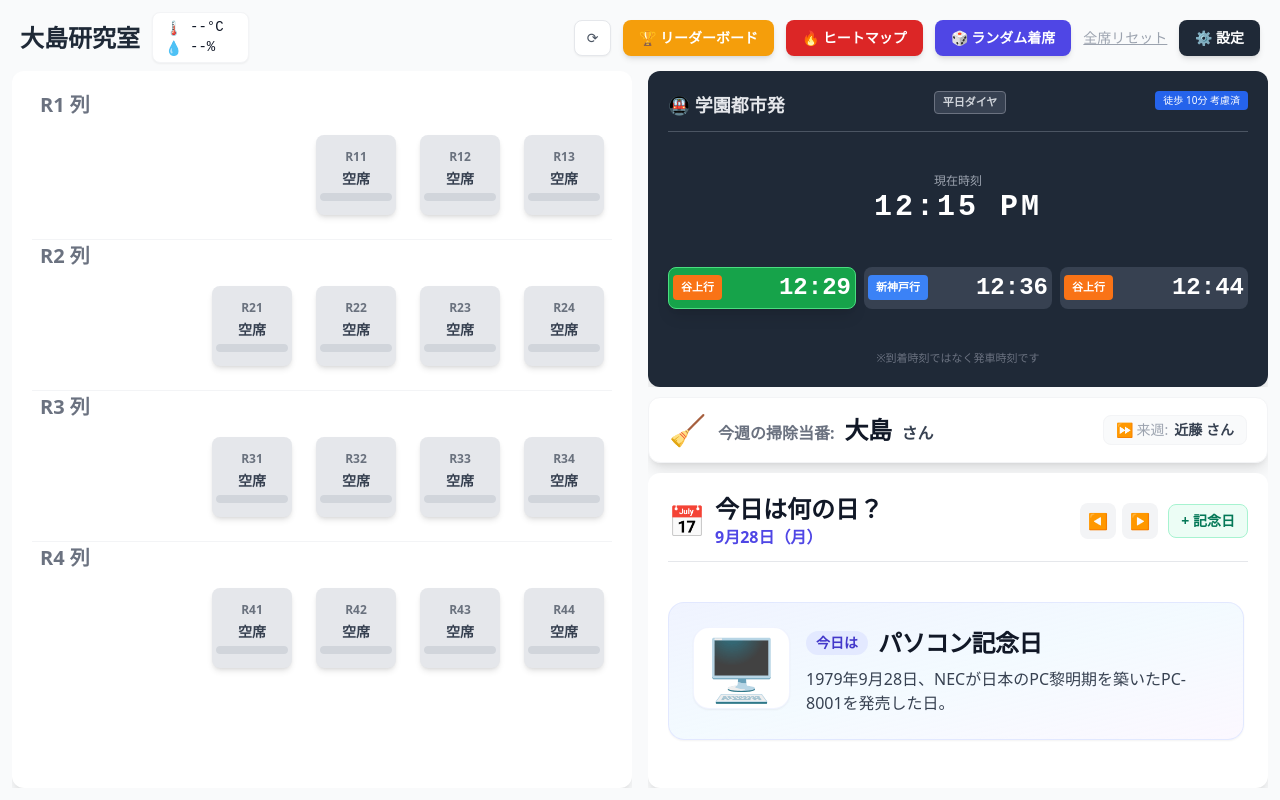
seat management - seating and clearing › assigns a user to a seat and clears it via leave
// Seat someone in R11
Click the text "R11". click: click(356, 157)
box: [345,149,367,165]
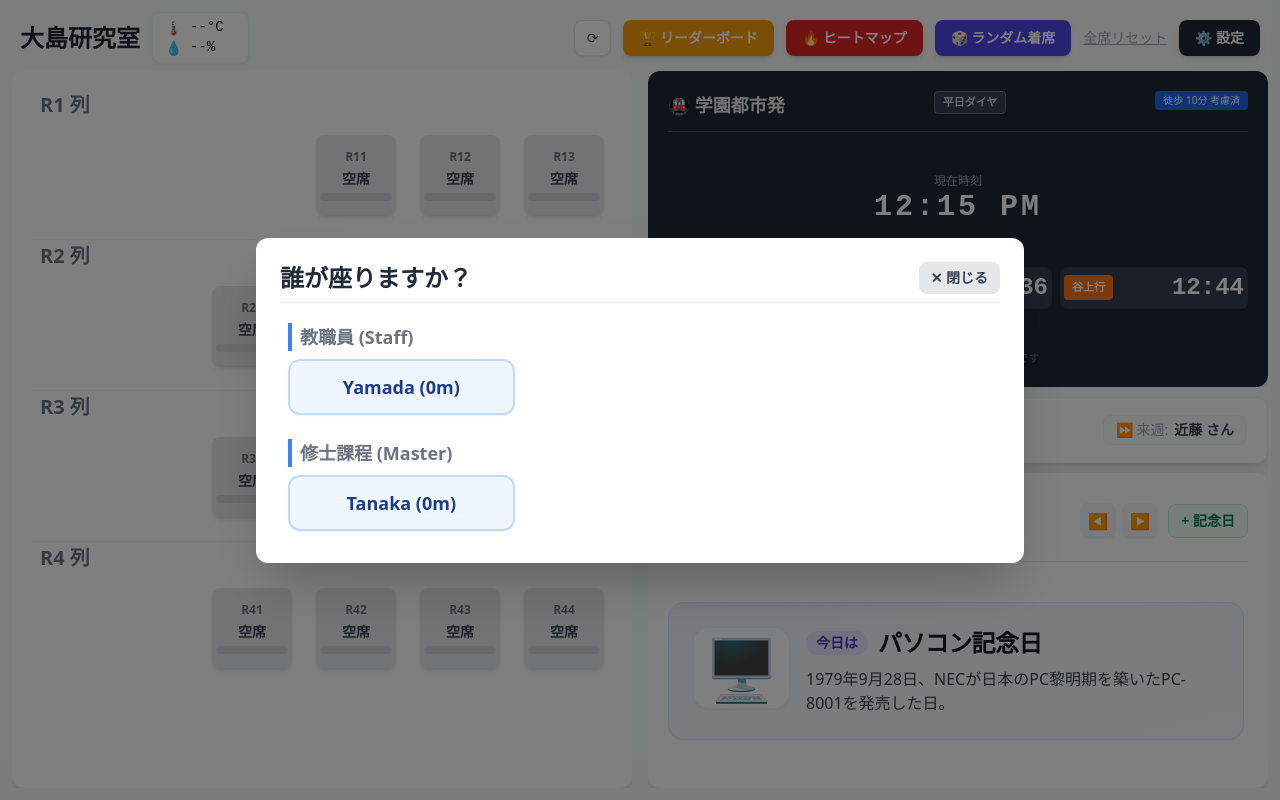
Click the button "Yamada (0m)". click: click(401, 386)
box: [288,358,515,414]
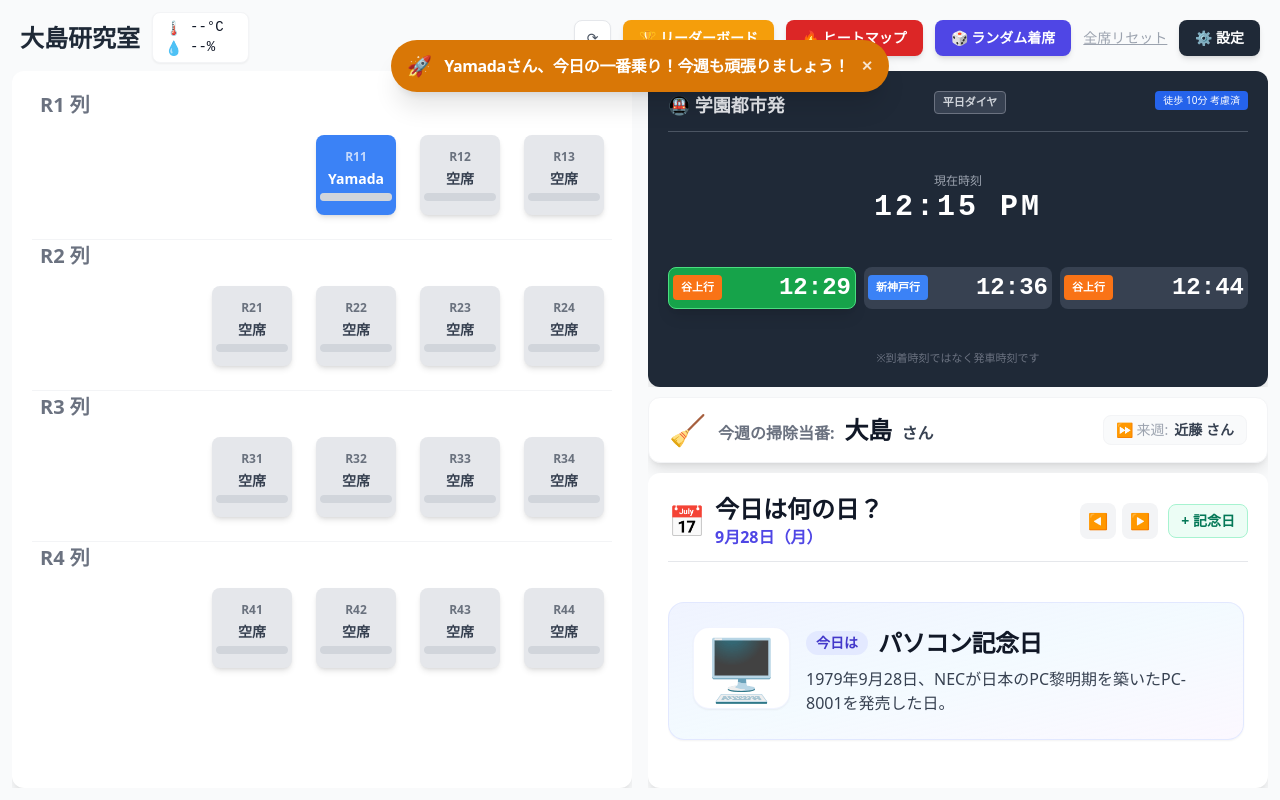
Expected: the text "R11" does not show "空席", [316,135,396,215]
Now the text "R11" shows "Yamada", box [328,169,384,188]
// Open action modal and leave
Click the text "R11". click: click(356, 157)
box: [345,149,367,165]
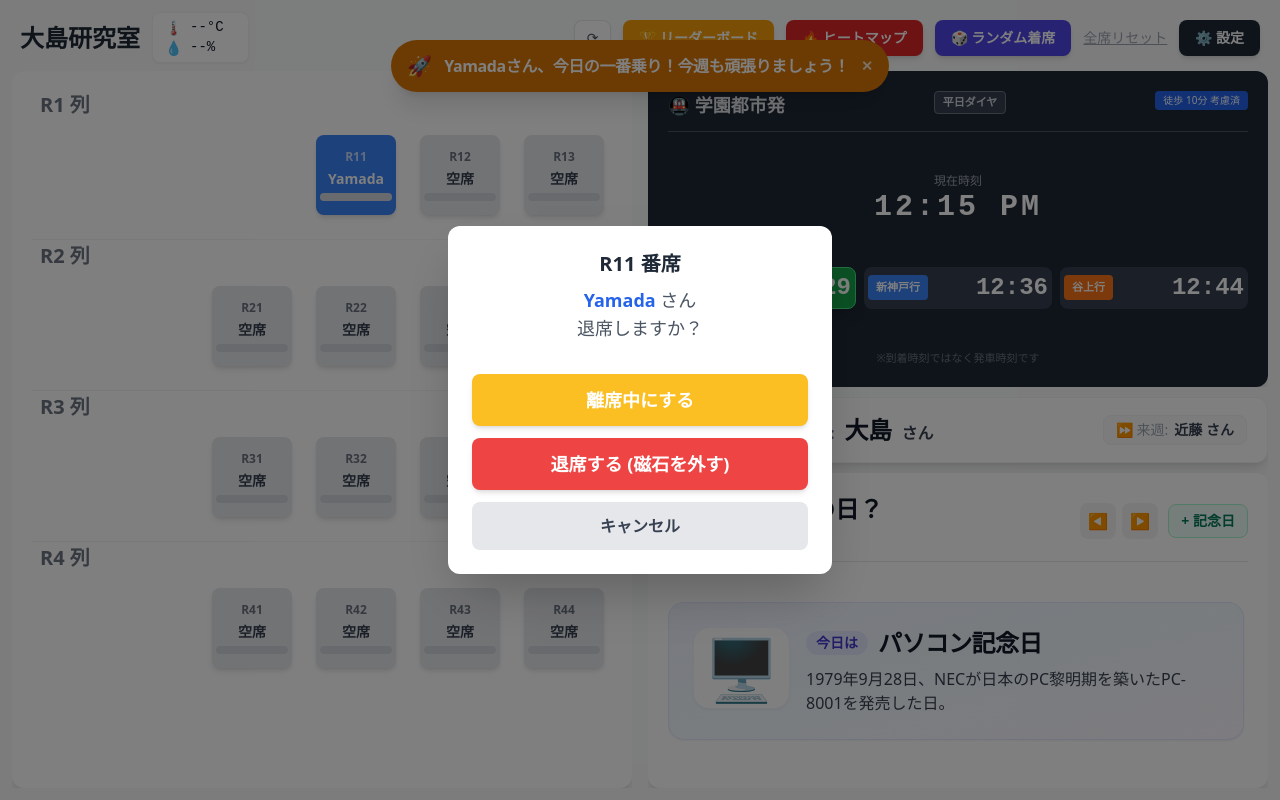
Click the button "退席する (磁石を外す)". click: click(640, 464)
box: [472,438,808,490]
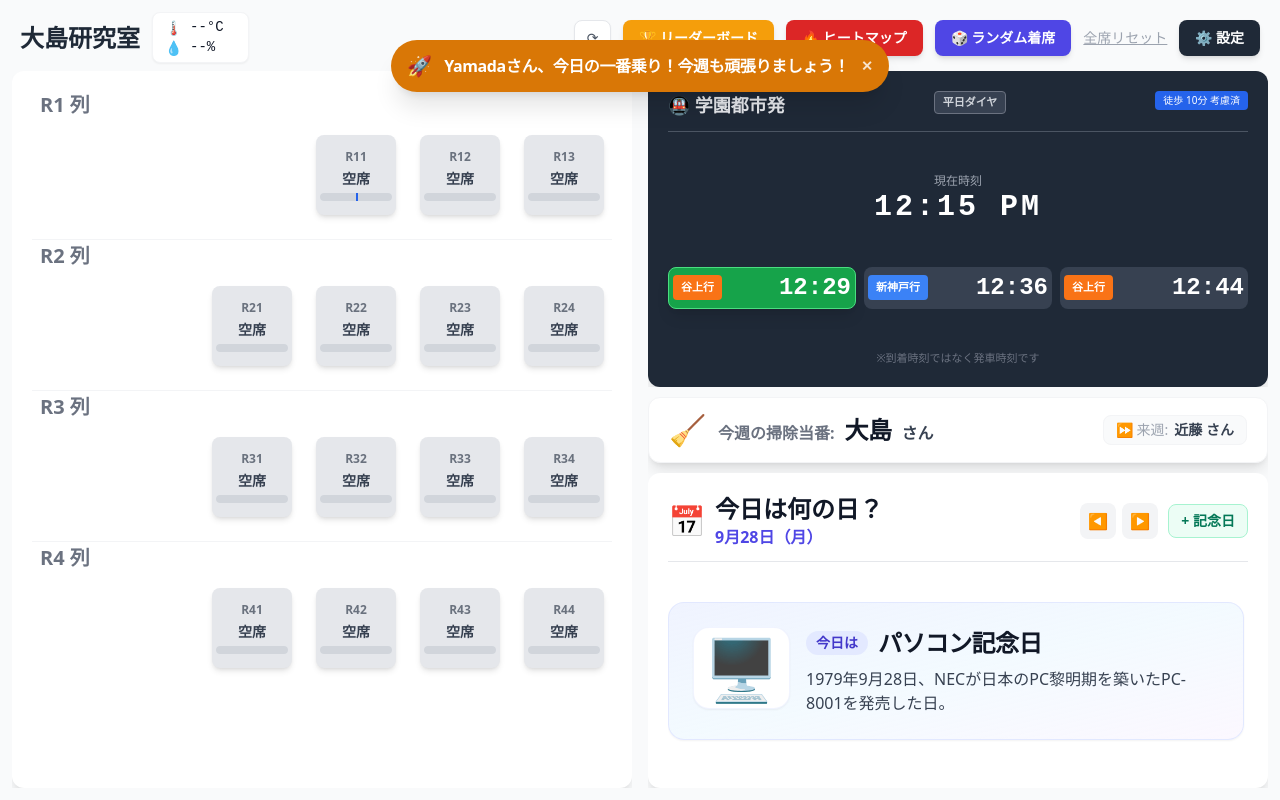
Expected: the text "R11" does not show "Yamada", [316,135,396,215]
Now the text "R11" shows "空席", box [342,169,370,188]
